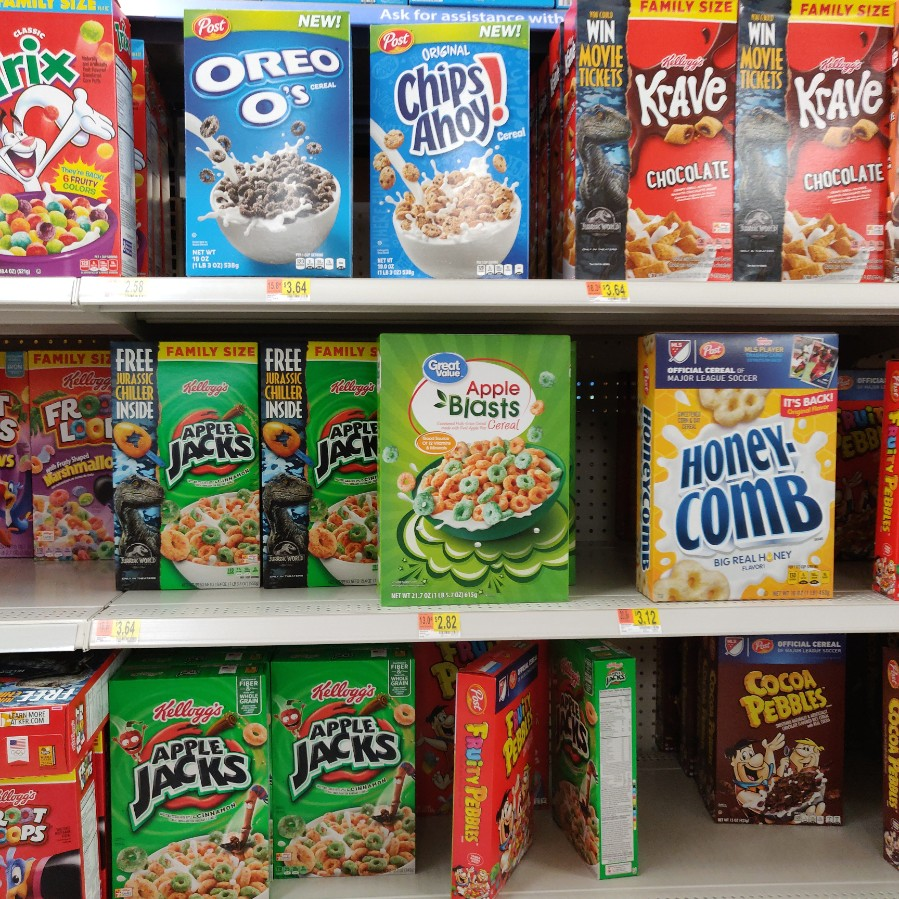Chips Ahoys-565717529: (368, 19, 526, 279)
Honey Comb- 009288857: (631, 332, 834, 601)
Oreo-563424384: (181, 4, 362, 286)
